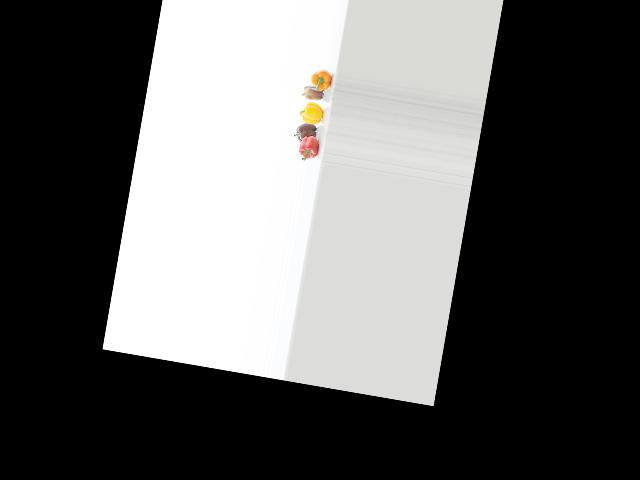bell_pepper: (302, 66, 335, 93)
